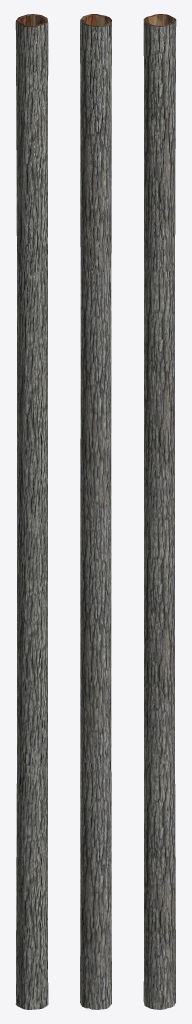
The model's file is fluchtlevel.fbx.
3 renders of one model, left to right at view 1: azimuth 90°, elevation 25°; view 2: azimuth 210°, elevation 25°; view 3: azimuth 270°, elevation 25°, orthographic.
Parts seen in each view (by area): view 1: Baumstamm; view 2: Baumstamm; view 3: Baumstamm.
Part boxes in pixels (x1,y1,x2,y2): Baumstamm: [15, 14, 48, 1009]; Baumstamm: [80, 14, 111, 1009]; Baumstamm: [143, 14, 176, 1009].
Size of the model in its own units: 204 by 6998 by 209.
1 material, 1 textured.
